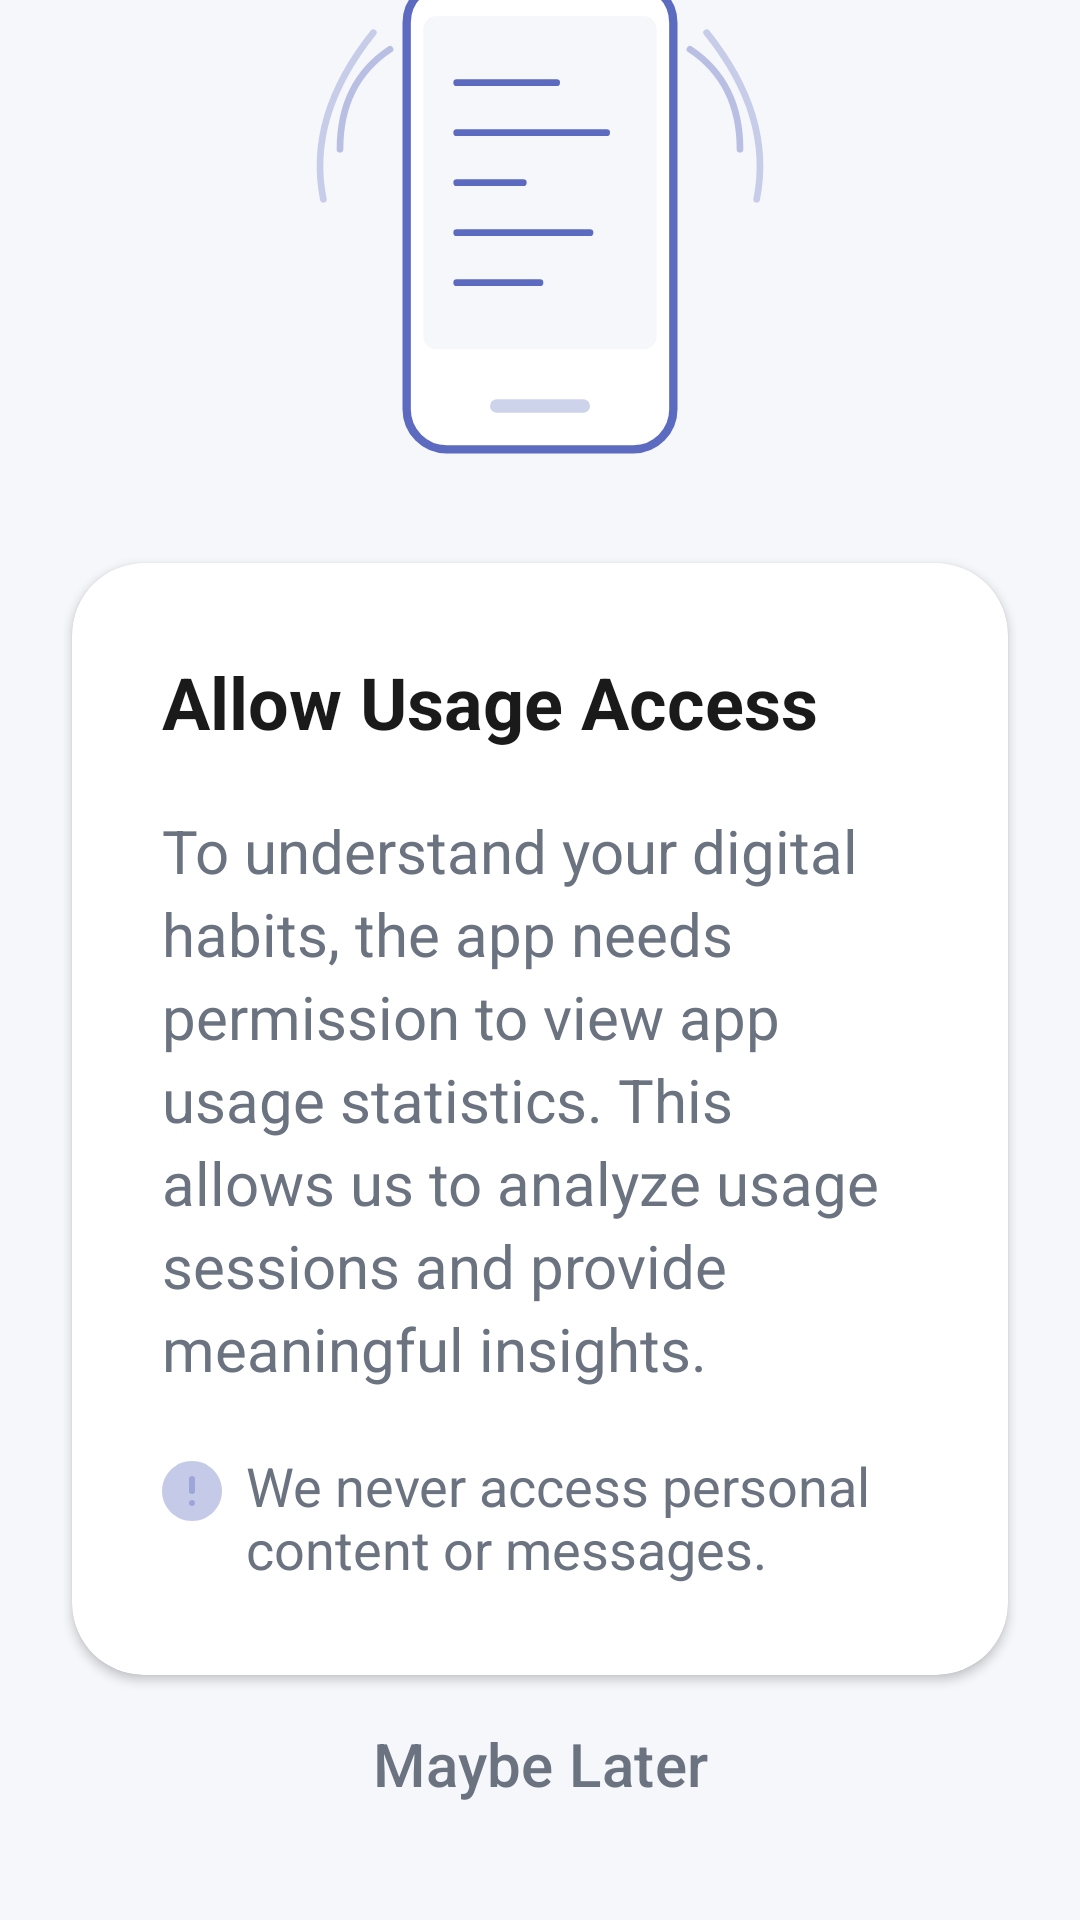

Named icons in this screenshot (1080 × 1920) and their centers, point (x, y):
info: point (192, 1491)
